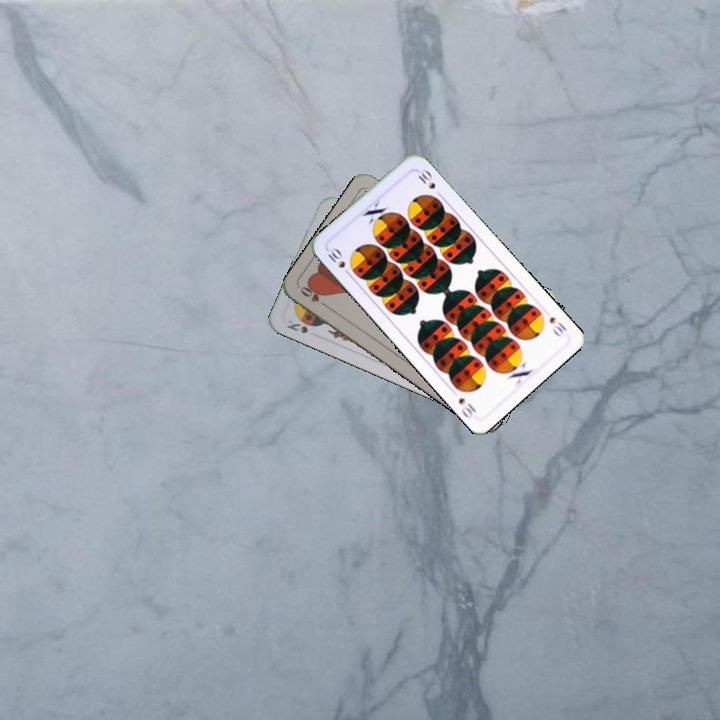HO: (296, 282, 332, 311)
S10: (323, 243, 354, 279), (545, 313, 569, 339)
SK: (283, 316, 310, 336)
